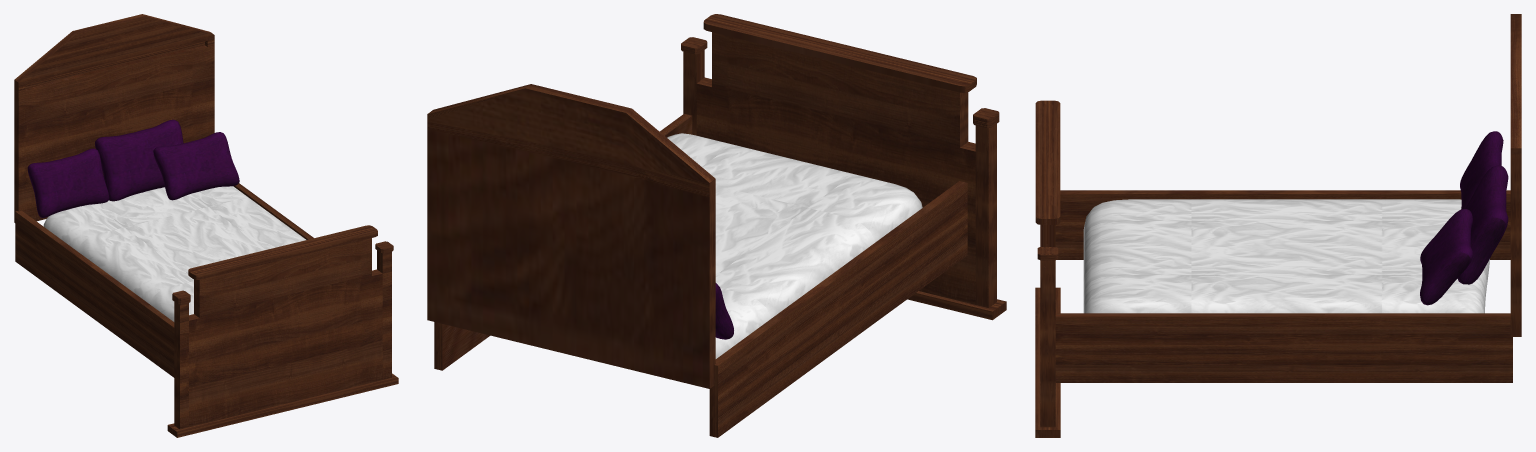
The model's file is Scalesd bed.fbx.
3 renders of one model, left to right at view 1: azimuth 30°, elevation 25°; view 2: azimuth 150°, elevation 25°; view 3: azimuth 270°, elevation 25°, orthographic. The views are drawn at different scales.
Visible parts, largest first — view 1: polySurface498, polySurface500, polySurface513, polySurface499, polySurface495, polySurface497, polySurface496, polySurface512; view 2: polySurface500, polySurface498, polySurface513, polySurface499, polySurface512, polySurface496; view 3: polySurface513, polySurface512, polySurface498, polySurface499, polySurface500, polySurface495, polySurface497, polySurface496.
Boxes of the visible parts, x1,y1,x2,y2 form: polySurface498: [167, 225, 398, 437]; polySurface500: [14, 14, 214, 222]; polySurface513: [43, 186, 305, 321]; polySurface499: [15, 210, 174, 377]; polySurface495: [95, 119, 183, 201]; polySurface497: [153, 132, 239, 200]; polySurface496: [27, 148, 109, 217]; polySurface512: [233, 183, 313, 239]; polySurface500: [427, 84, 715, 388]; polySurface498: [681, 14, 1006, 320]; polySurface513: [667, 133, 922, 358]; polySurface499: [709, 181, 967, 437]; polySurface512: [434, 114, 692, 370]; polySurface496: [715, 283, 733, 339]; polySurface513: [1083, 199, 1489, 313]; polySurface512: [1055, 313, 1512, 382]; polySurface498: [1035, 100, 1060, 437]; polySurface499: [1055, 190, 1510, 259]; polySurface500: [1510, 14, 1521, 336]; polySurface495: [1457, 165, 1508, 284]; polySurface497: [1420, 209, 1472, 305]; polySurface496: [1460, 131, 1503, 209].
Bounding box in the file's own units: 275 × 300 × 397.
